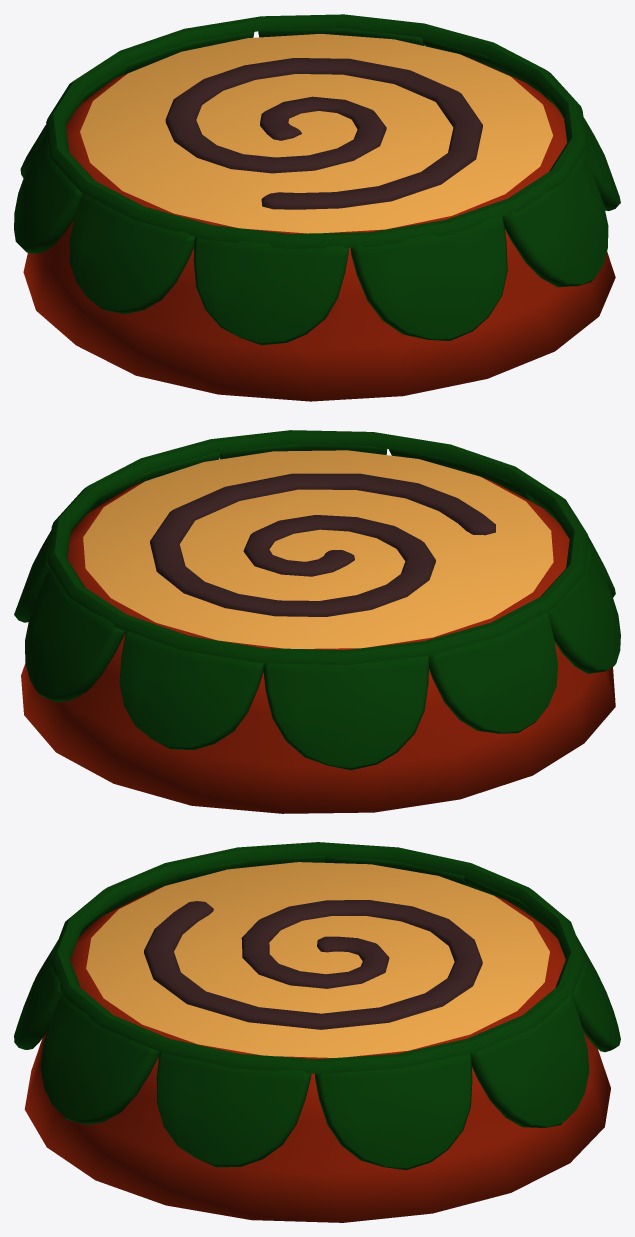
File: Checkpoint.fbx
3 views of the same model, one above another, from view 1: azimuth 30°, elevation 25°; view 2: azimuth 150°, elevation 25°; view 3: azimuth 270°, elevation 25° (orthographic).
Visible parts, largest first — view 1: Checkpoint12, Checkpoint13, Spiral; view 2: Checkpoint12, Checkpoint13, Spiral; view 3: Checkpoint12, Checkpoint13, Spiral.
Boxes of the visible parts, <box> form: Checkpoint12: <box>23,34,615,401</box>; Checkpoint13: <box>14,14,620,345</box>; Spiral: <box>165,58,482,209</box>; Checkpoint12: <box>21,450,615,813</box>; Checkpoint13: <box>14,430,620,770</box>; Spiral: <box>150,473,495,616</box>; Checkpoint12: <box>24,862,610,1222</box>; Checkpoint13: <box>14,842,620,1170</box>; Spiral: <box>144,900,482,1029</box>.
Bounding box in the file's own units: 2.07 × 0.6298 × 2.12.
